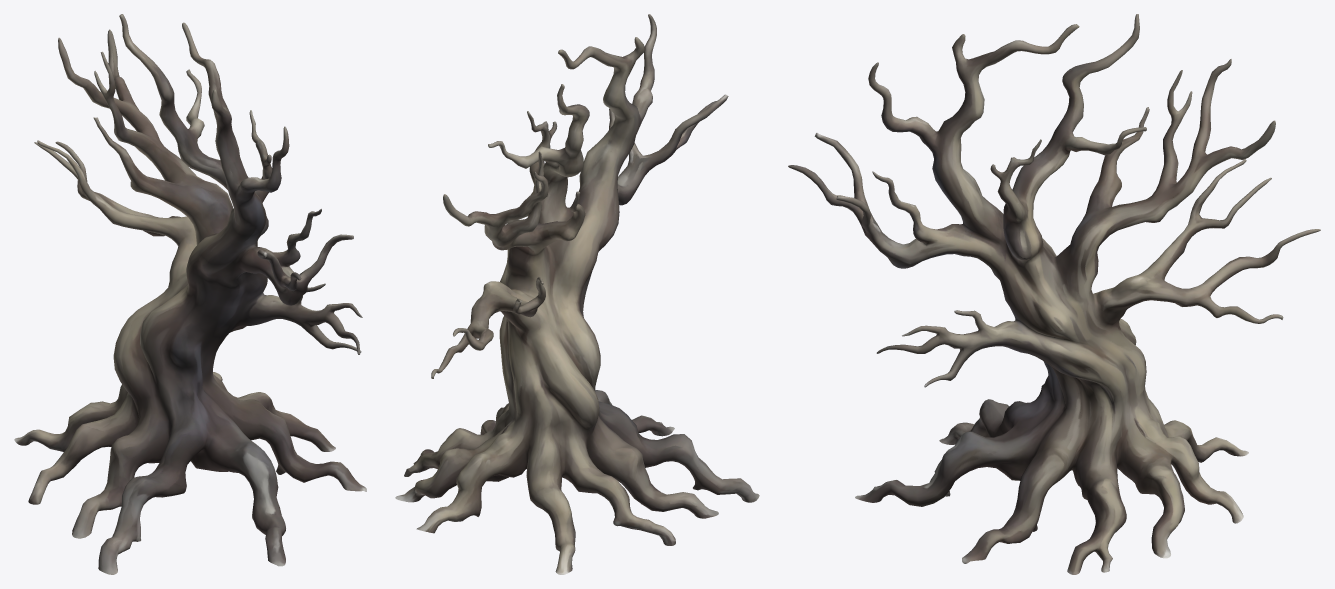
The model's file is 04-tree.glb.
3 renders of one model, left to right at view 1: azimuth 30°, elevation 25°; view 2: azimuth 150°, elevation 25°; view 3: azimuth 270°, elevation 25°, orthographic. The views are drawn at different scales.
Visible parts, largest first — view 1: tripo_node_3a153ee3-1d9c-46bb-9b82-ed8b4a5e1d03; view 2: tripo_node_3a153ee3-1d9c-46bb-9b82-ed8b4a5e1d03; view 3: tripo_node_3a153ee3-1d9c-46bb-9b82-ed8b4a5e1d03.
Part boxes in pixels (x1,y1,x2,y2): tripo_node_3a153ee3-1d9c-46bb-9b82-ed8b4a5e1d03: (14,14,366,574); tripo_node_3a153ee3-1d9c-46bb-9b82-ed8b4a5e1d03: (395,14,759,574); tripo_node_3a153ee3-1d9c-46bb-9b82-ed8b4a5e1d03: (788,14,1320,574).
Size of the model in its own units: 0.6519 by 0.9995 by 0.9956.
1 material, 1 textured.
